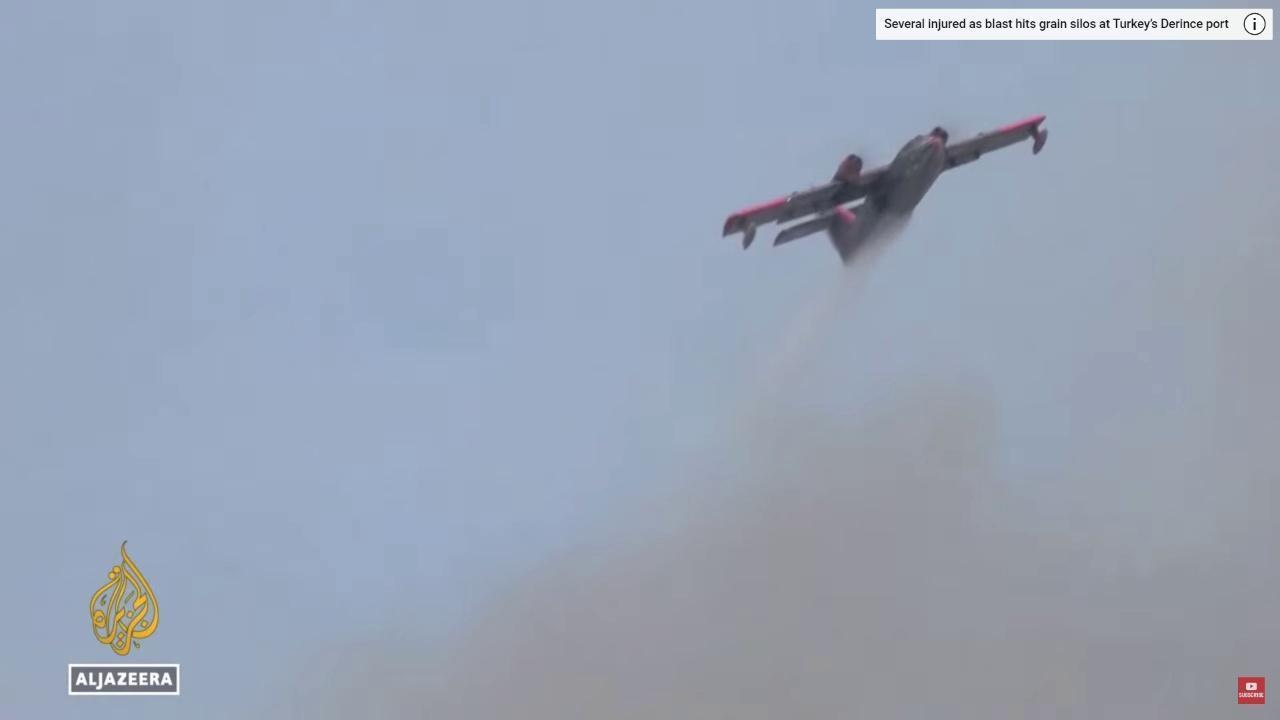smoke: (277, 111, 1280, 720)
